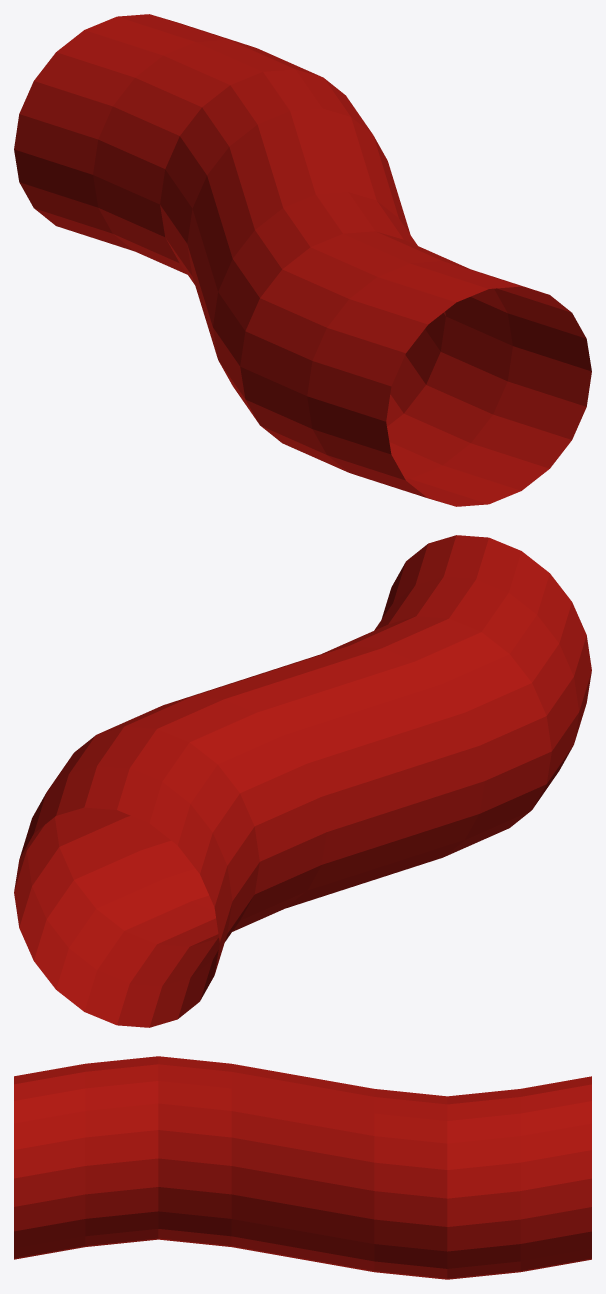
The model's file is Vessel_S_100_outside.fbx.
The picture shows the model from 3 angles, top to bottom: view 1: azimuth 30°, elevation 25°; view 2: azimuth 150°, elevation 25°; view 3: azimuth 270°, elevation 25°; orthographic projection. The views are drawn at different scales.
Parts seen in each view (by area): view 1: Vessel_S_100; view 2: Vessel_S_100; view 3: Vessel_S_100.
Boxes of the visible parts, x1=… form: Vessel_S_100: x1=14, y1=14, x2=591, y2=506; Vessel_S_100: x1=14, y1=535, x2=591, y2=1027; Vessel_S_100: x1=14, y1=1056, x2=591, y2=1279.
Bounding box in the file's own units: 9.67 × 6.39 × 20.
